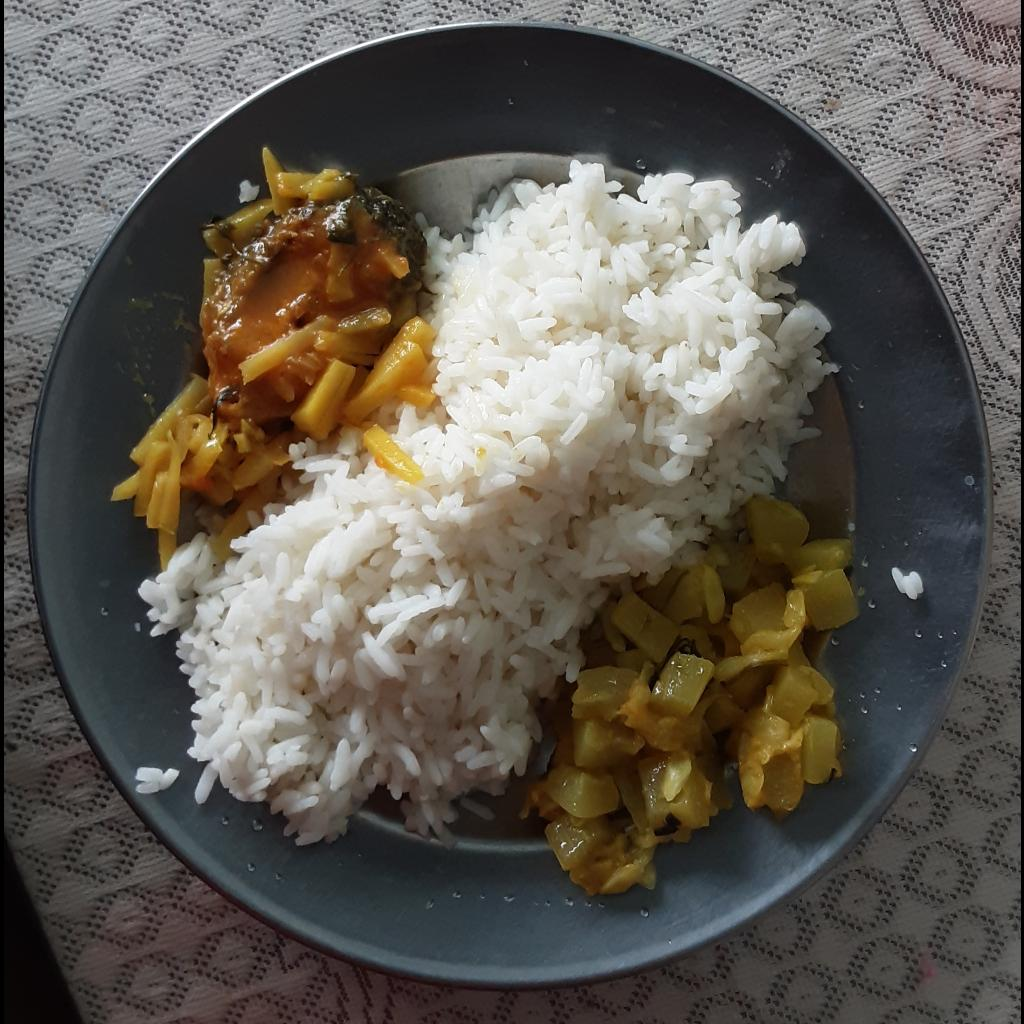fish: (201, 186, 427, 386)
kumra-vaji: (527, 502, 863, 899)
potato: (109, 310, 444, 574), (196, 149, 360, 297)
rice: (128, 161, 841, 852)
